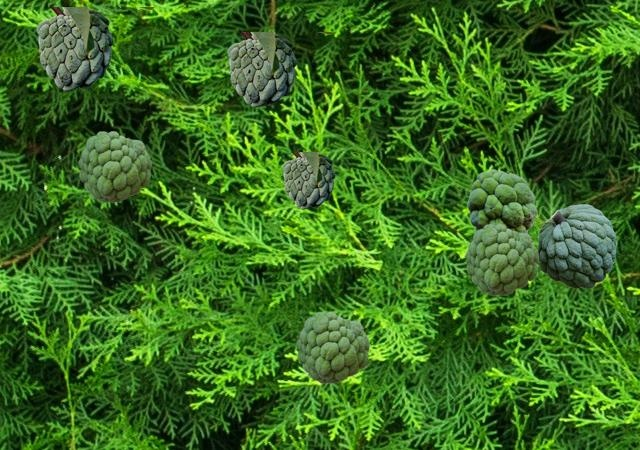atis: (36, 7, 153, 90), (227, 32, 332, 106), (538, 204, 615, 287), (296, 312, 368, 382), (465, 224, 537, 294), (78, 131, 150, 201), (282, 152, 362, 208), (467, 169, 536, 232)
